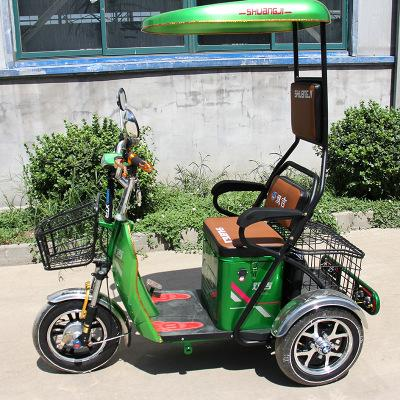empty: (25, 88, 381, 389)
